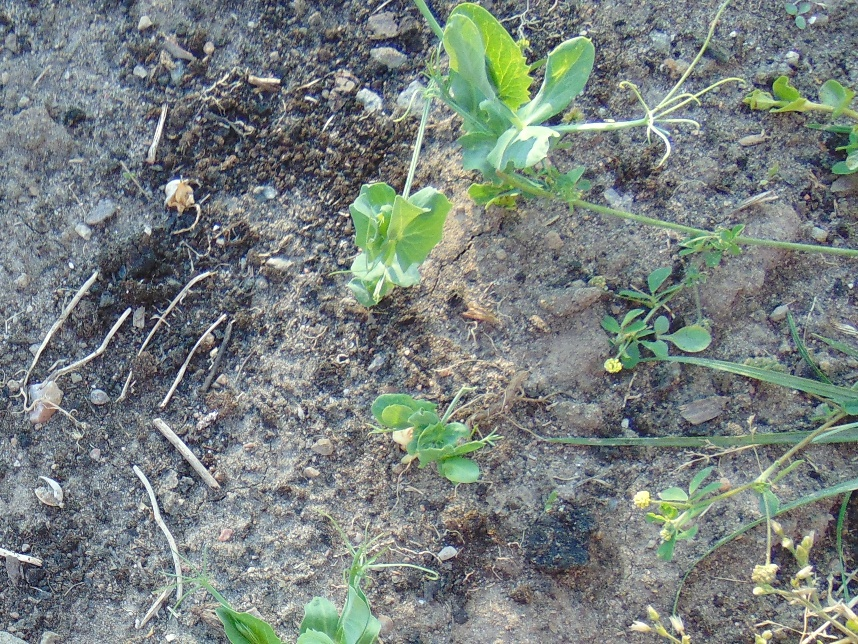crop: (426, 2, 685, 178), (180, 532, 435, 641), (346, 177, 455, 309), (369, 393, 499, 485)
weed: (642, 214, 858, 273), (744, 73, 858, 179), (595, 268, 711, 372), (646, 467, 740, 560), (798, 365, 858, 509), (804, 595, 857, 644)
